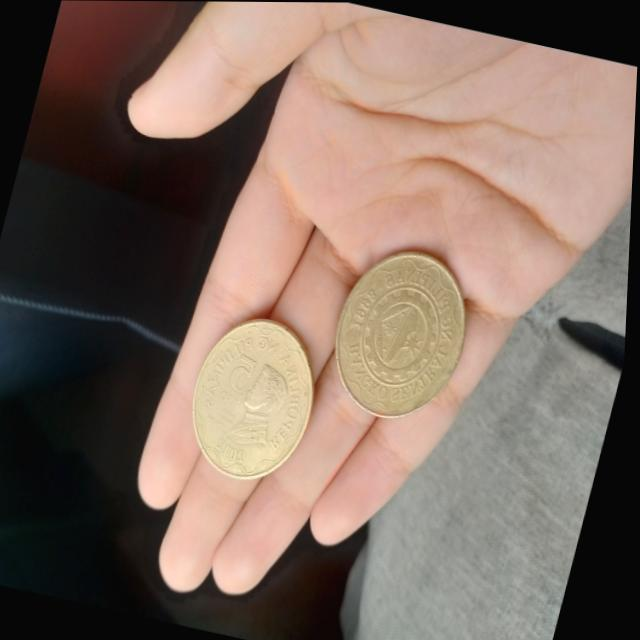5_Old_Back: (318, 234, 487, 430)
5_Old_Front: (209, 335, 275, 417)
